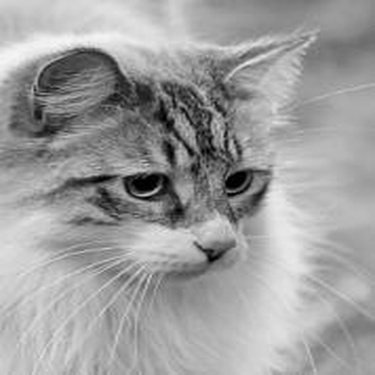cat: (9, 25, 328, 365)
